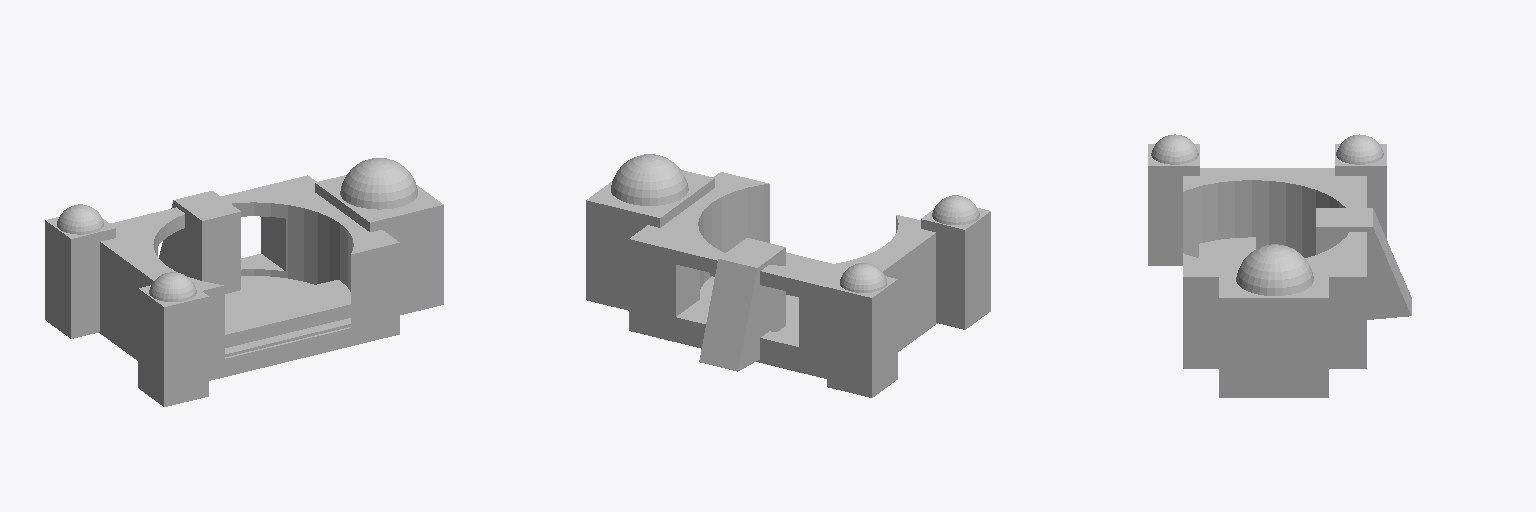
Rendered from house4.obj.
3 views of the same model, side by side, from view 1: azimuth 30°, elevation 25°; view 2: azimuth 150°, elevation 25°; view 3: azimuth 270°, elevation 25° (orthographic).
Parts seen in each view (by area): view 1: house4_Cubo_2; view 2: house4_Cubo_2; view 3: house4_Cubo_2.
Boxes of the visible parts, x1=… form: house4_Cubo_2: x1=45, y1=158, x2=443, y2=406; house4_Cubo_2: x1=586, y1=154, x2=990, y2=397; house4_Cubo_2: x1=1148, y1=134, x2=1411, y2=397.
Size of the model in its own units: 22.83 by 9.28 by 16.52.